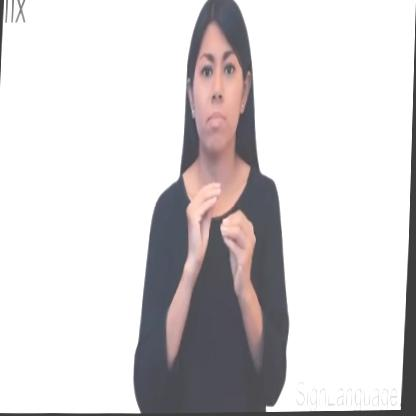Fix: (133, 0, 307, 414)
